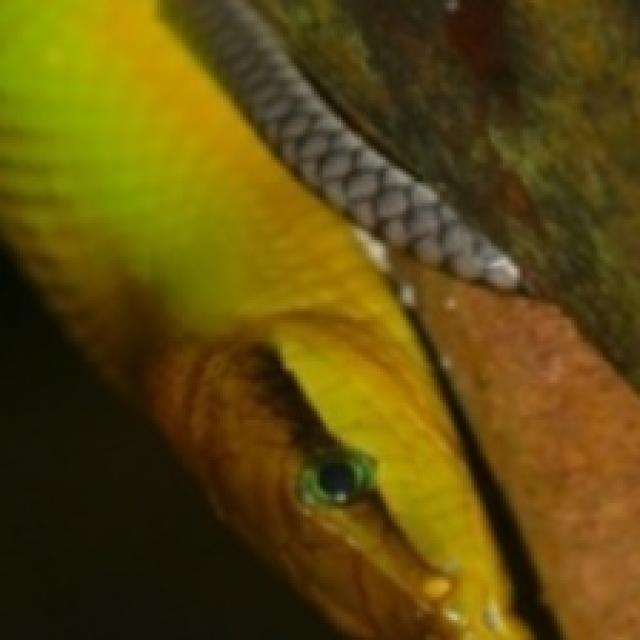red-tailed green ratsnake: (0, 0, 529, 637), (180, 0, 520, 289)
